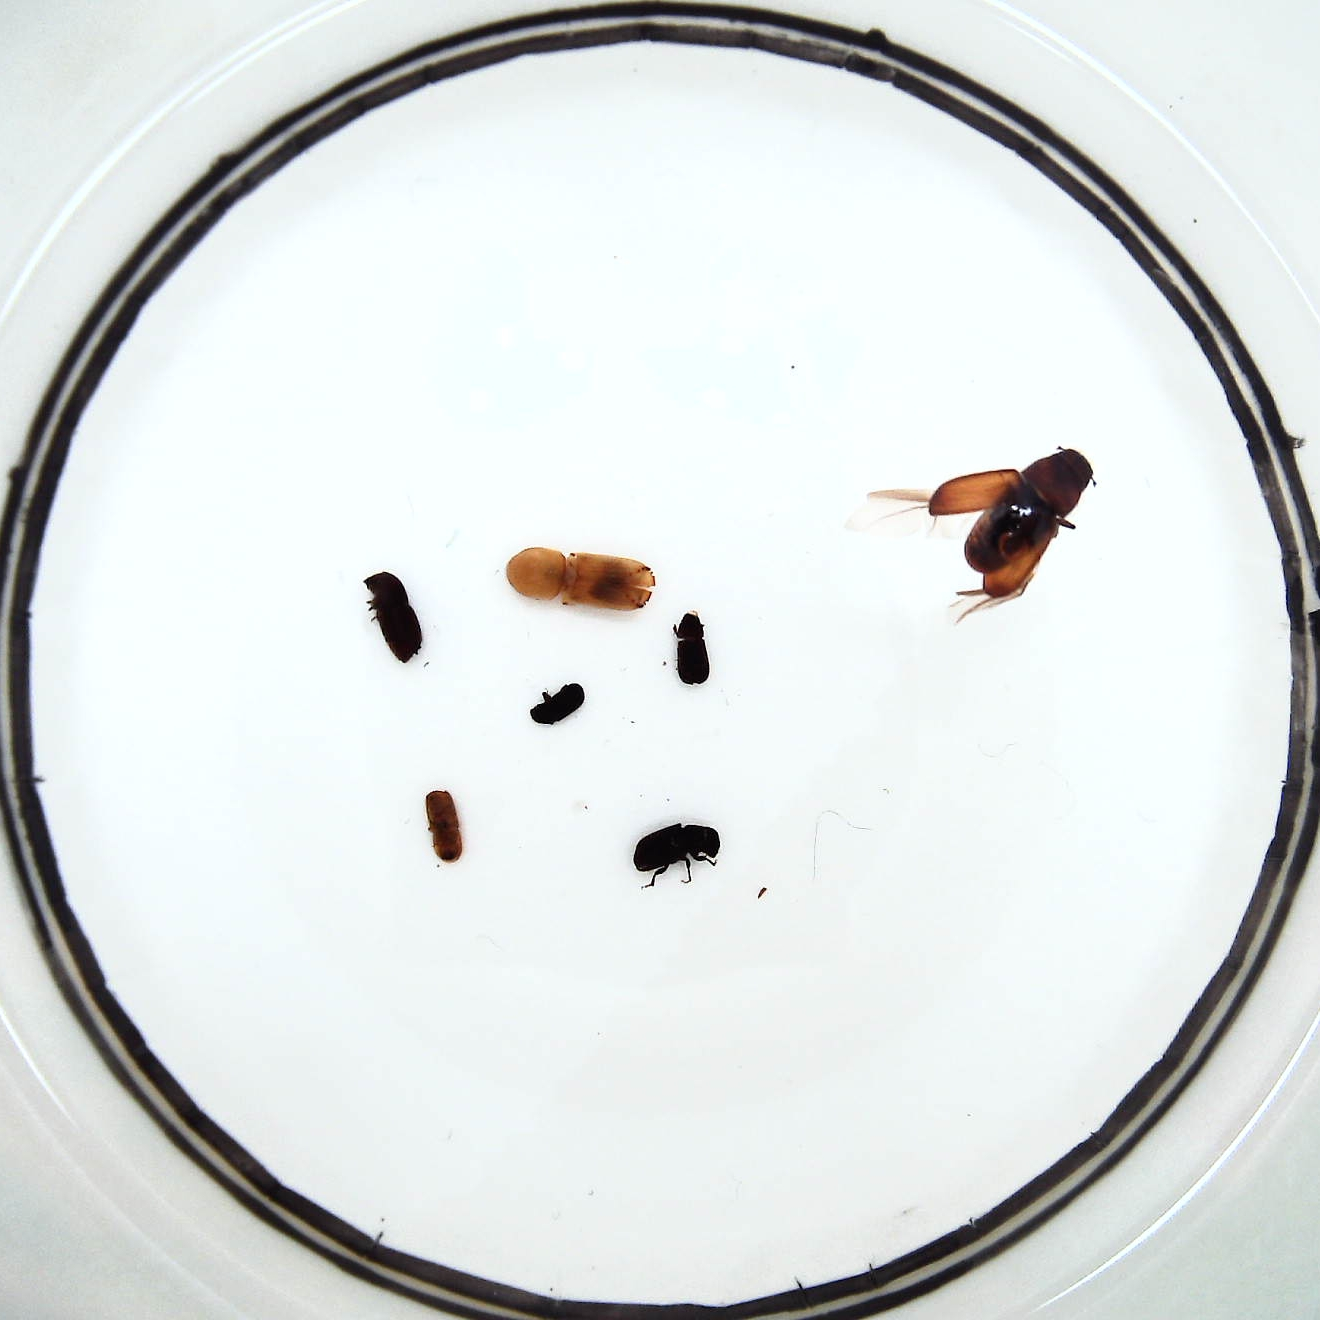Boerner: (502, 539, 656, 612)
Leconte: (917, 451, 1092, 600)
Linnaeus: (366, 563, 422, 661)
acuminatus: (424, 791, 463, 865)
armandi: (631, 817, 722, 878)
coleoptera: (673, 612, 714, 681), (529, 681, 583, 724)
